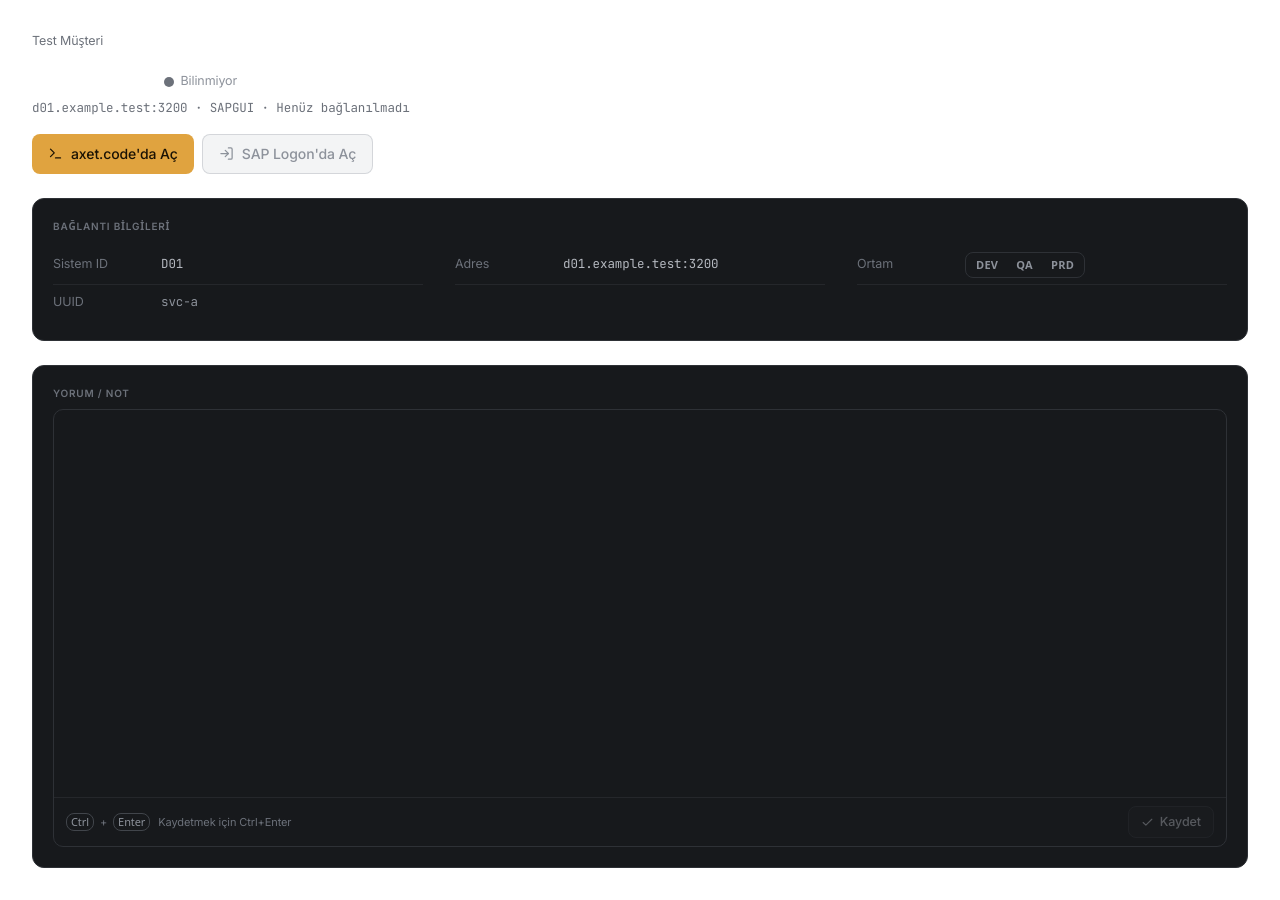
SystemPanel — bugünkü davranış › açılışta bir kez denetliyor, yeniden denetle düğmesi tekrar çağırıyor
This screenshot has width=1280, height=900.
Step 1. Click the button with aria-label "Yeniden Kontrol Et" → (201, 81), box left=158, top=67, right=243, bottom=95
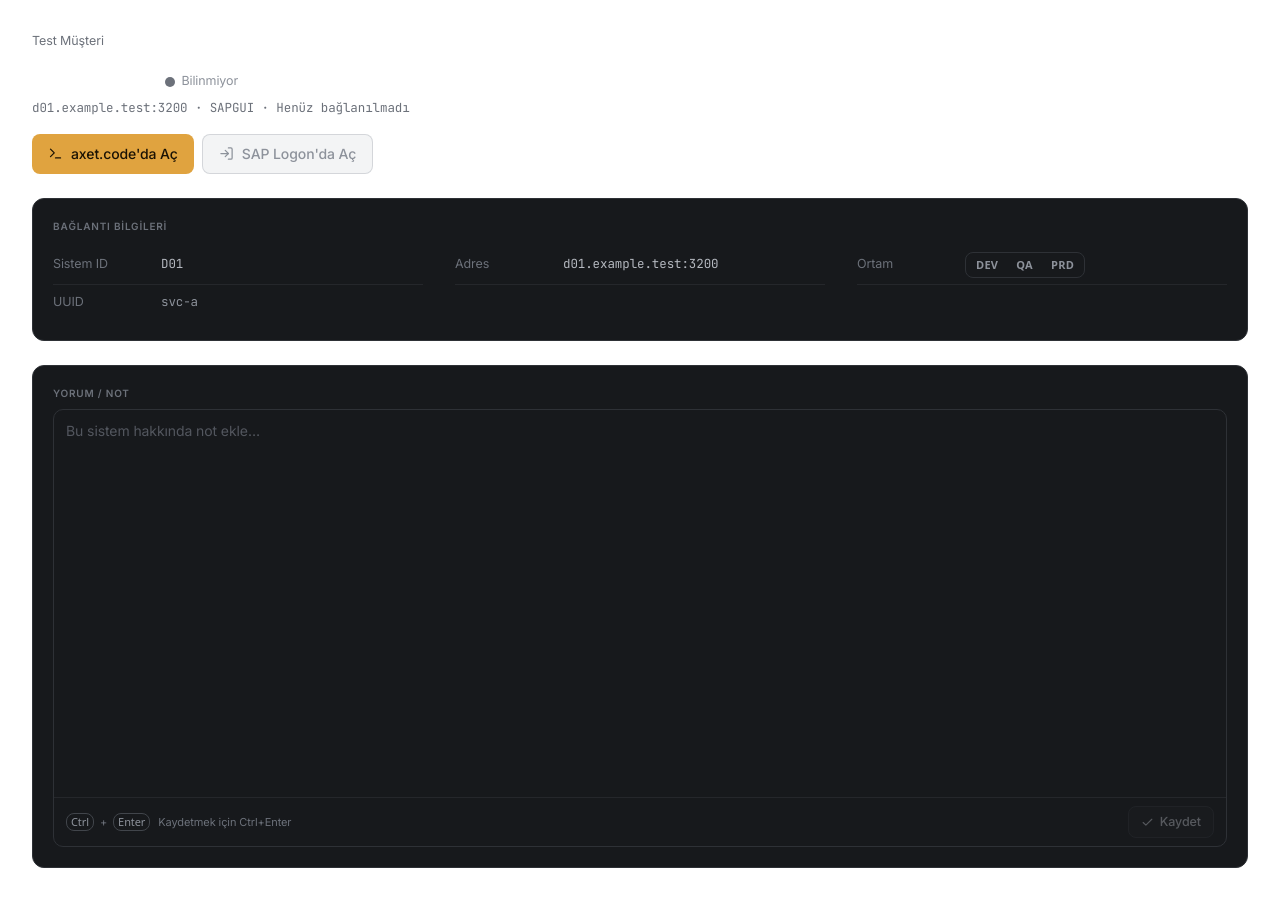
Expected: the text box is enabled, left=54, top=410, right=1226, bottom=797
